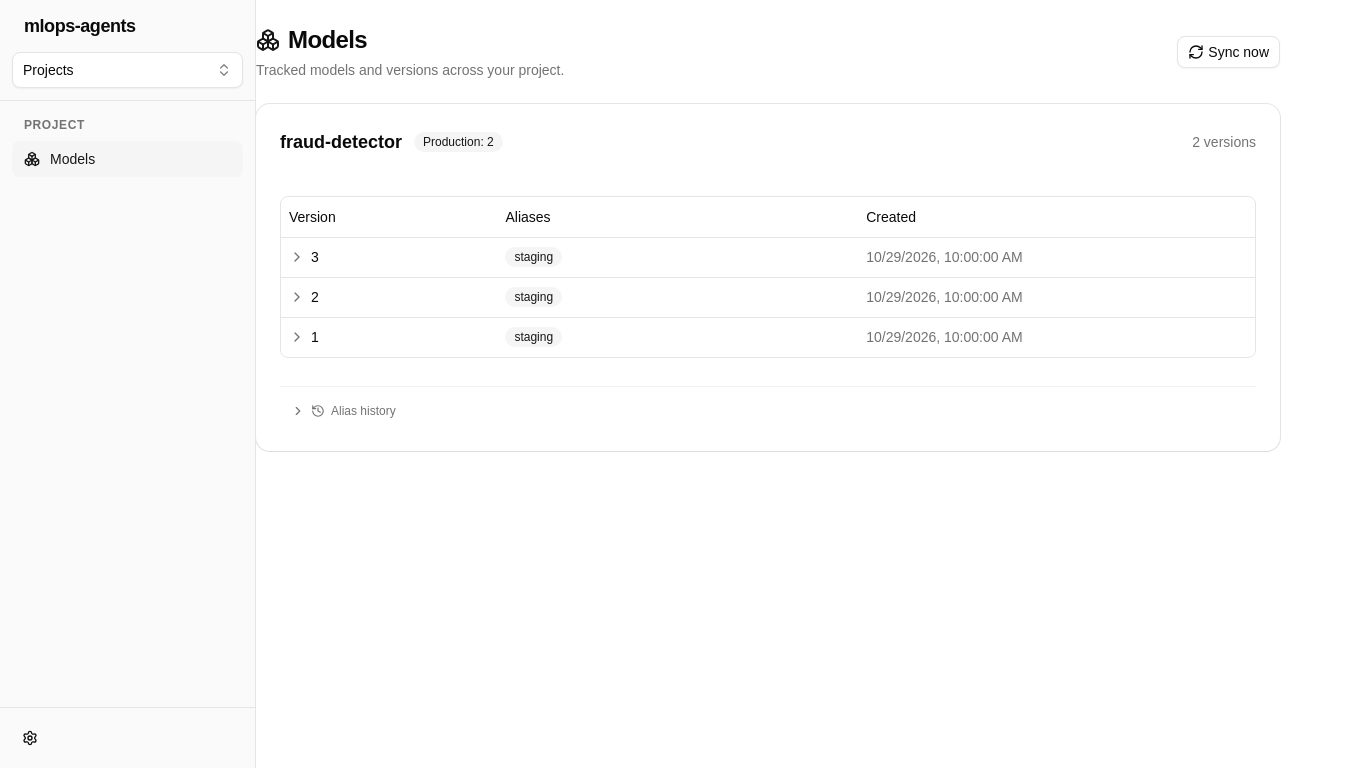
Test case: TrackedModelsPage › expanding a version shows run, short commit, datasets ('Not recorded' when empty), 'Run not tracked' for missing run, and 'removed' in alias history
The image size is (1366, 768).
Expected: the text "fraud-detector" is shown, [280,128,402,156]
Expand version 2 (with tracked run)
Click the button "2": coordinates (304, 297) [289,287,319,307]
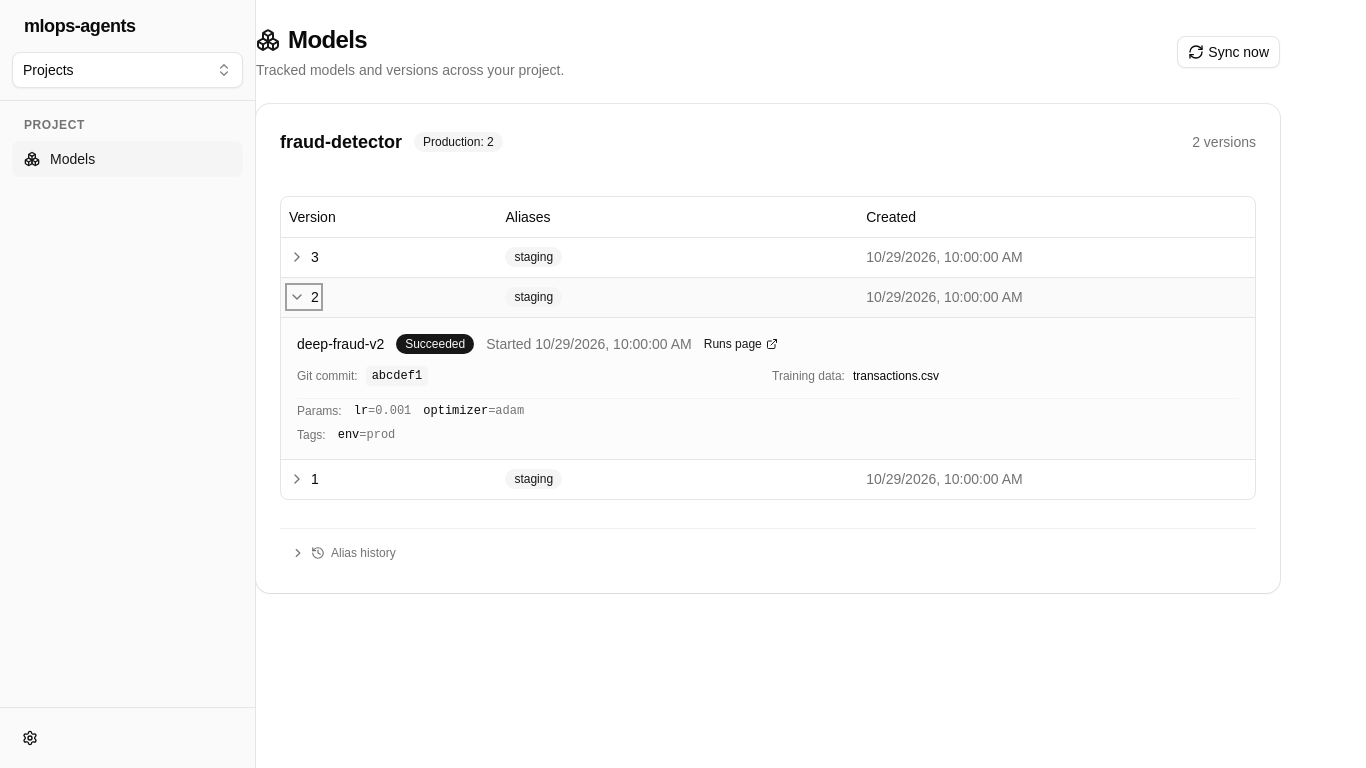
Expected: the text "deep-fraud-v2" is shown, [297,334,384,354]
Expected: the text "Succeeded" is shown, [396,334,474,354]
Expected: the text titled "abcdef1234567890" is shown, [372,368,422,382]
Click the button "3": coordinates (304, 257) [289,247,319,267]
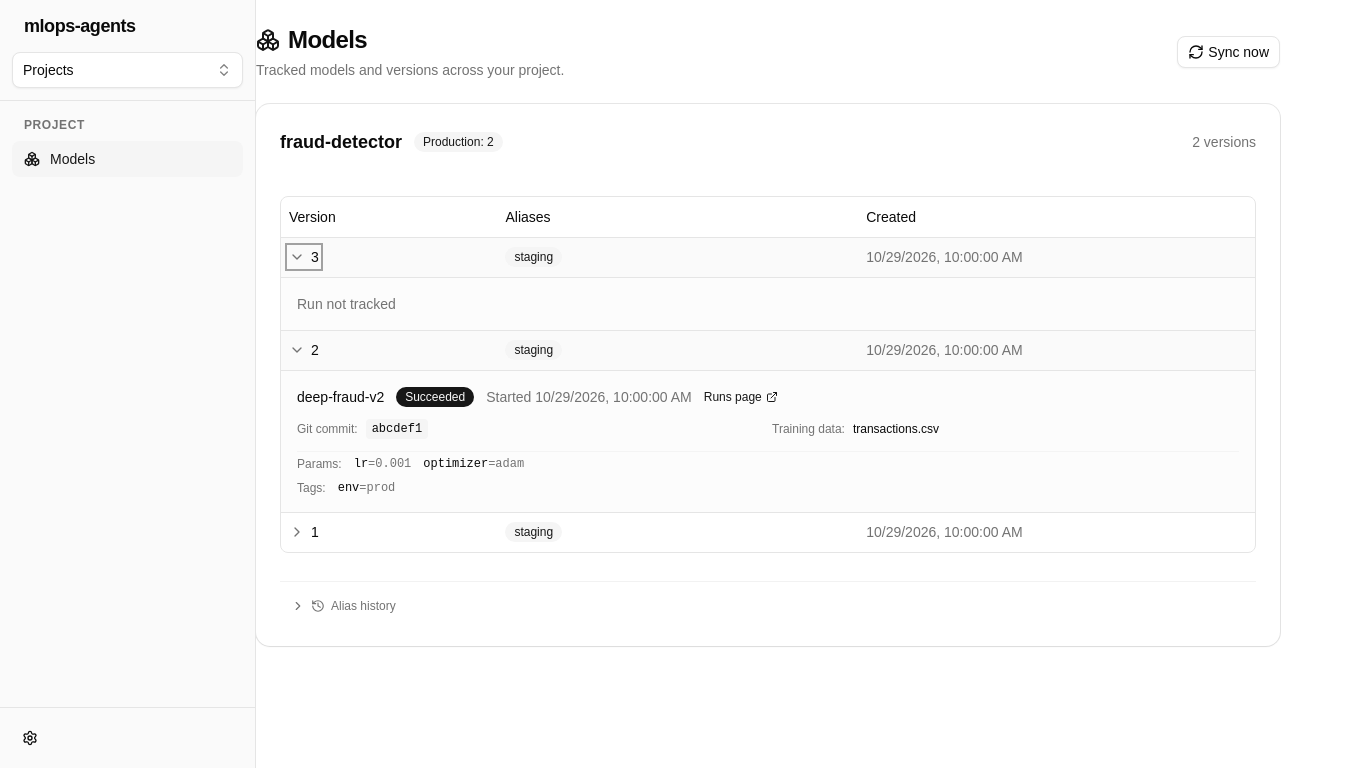
Expected: the text "Run not tracked" is shown, [297,296,396,312]
Expand version 1 (with null run_key)
Click the button "1": coordinates (304, 532) [289,522,319,542]
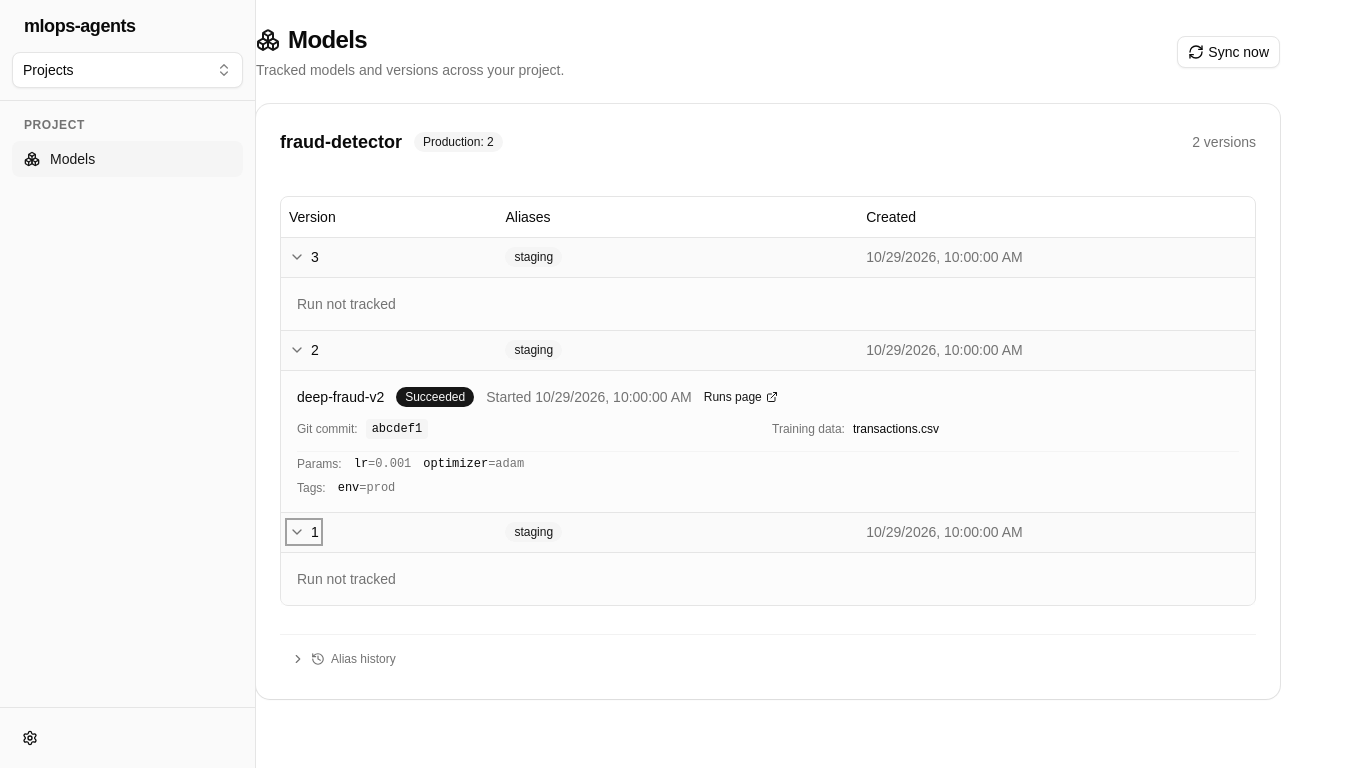
Expand alias history collapsible
Click the button "Alias history": coordinates (343, 658) [280,642,407,674]
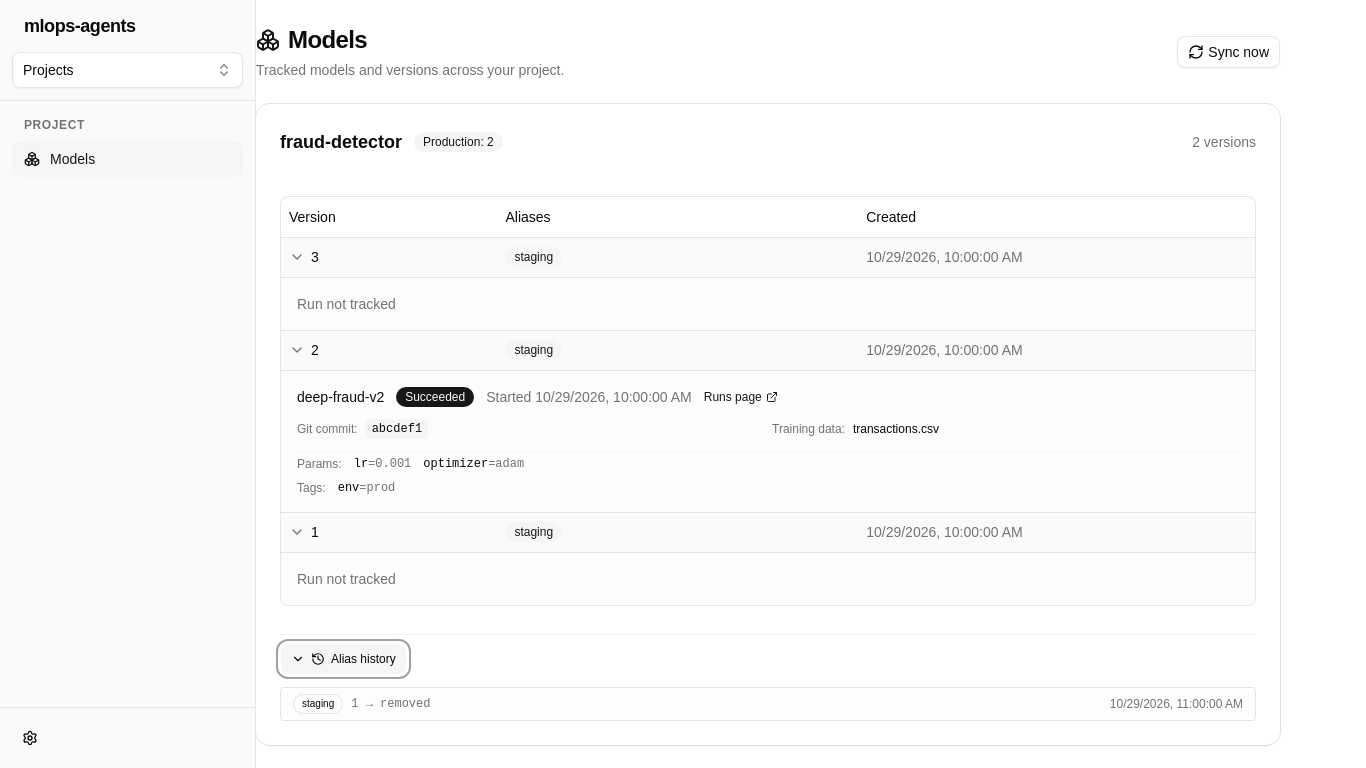
Expected: the text "1 → removed" is shown, [351,696,430,712]
